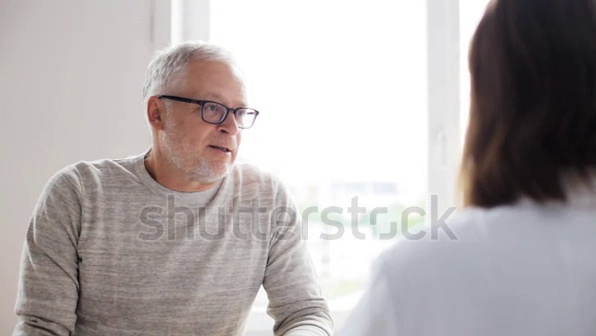No Mask: (148, 45, 262, 186)
